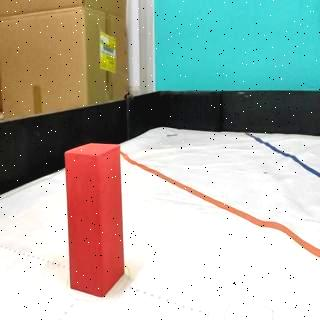redbox: (66, 142, 126, 298)
